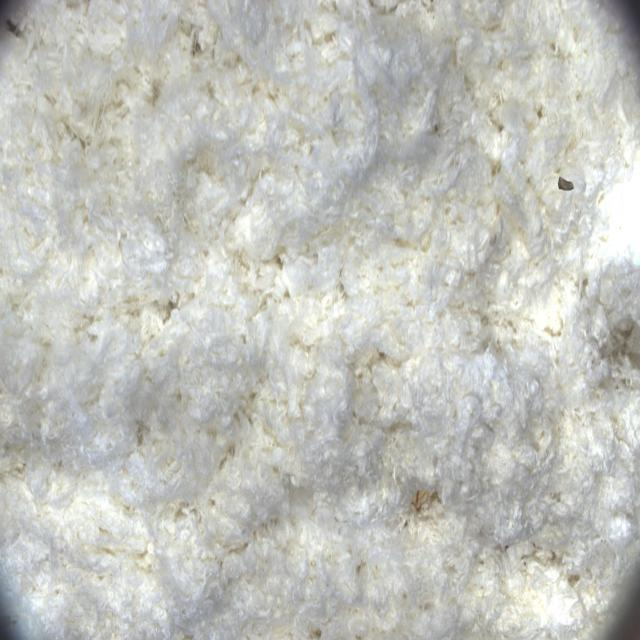dust: (548, 157, 584, 206)
